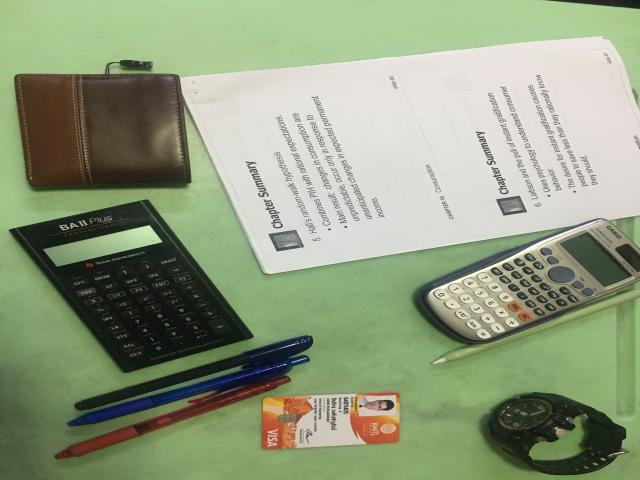Pen: (58, 336, 314, 459)
Wallet: (14, 74, 193, 191)
Watch: (488, 393, 627, 475)
paper: (180, 37, 638, 274)
